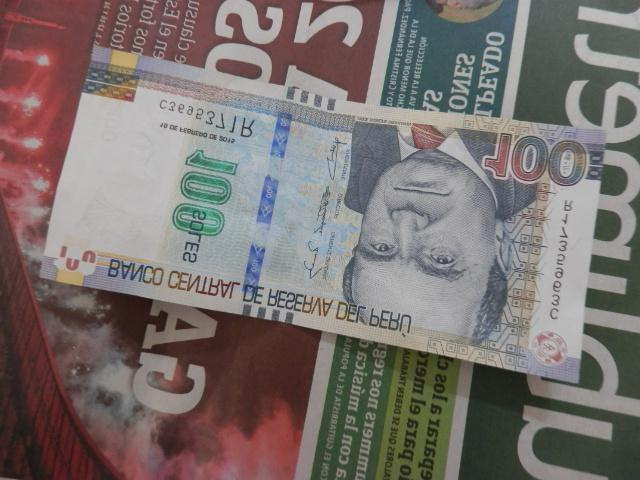B100: (39, 52, 606, 382)
